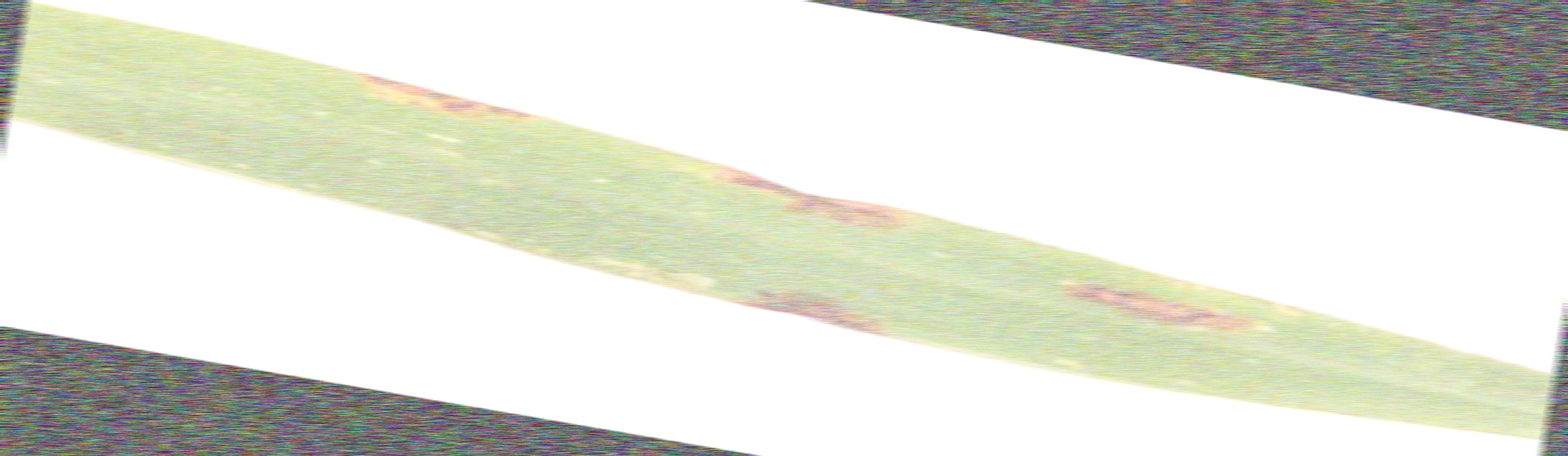Bacterial_Leaf_Blight: (680, 155, 939, 217), (314, 60, 550, 122), (1029, 270, 1264, 328), (729, 274, 878, 334)
